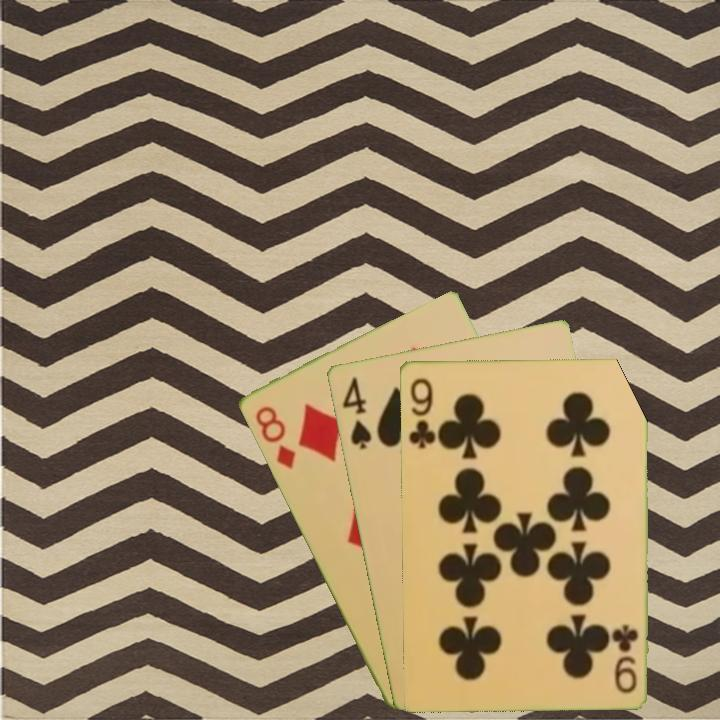4s: (338, 373, 374, 452)
8d: (251, 402, 298, 472)
9c: (405, 374, 438, 451), (611, 621, 641, 696)
